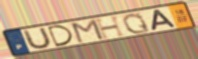A: (151, 8, 179, 32)
D: (46, 24, 75, 47)
H: (93, 14, 128, 40)
M: (70, 18, 105, 44)
Q: (121, 12, 152, 35)
U: (23, 26, 53, 51)
